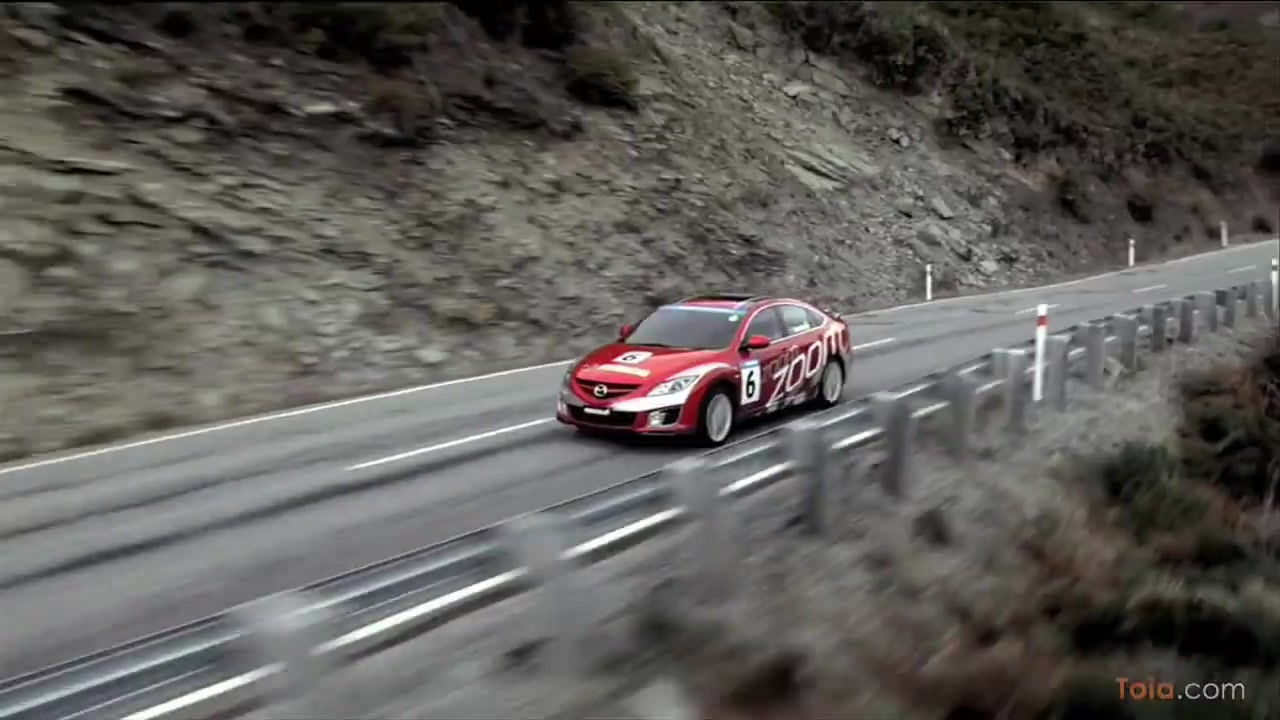car: (556, 292, 856, 454)
